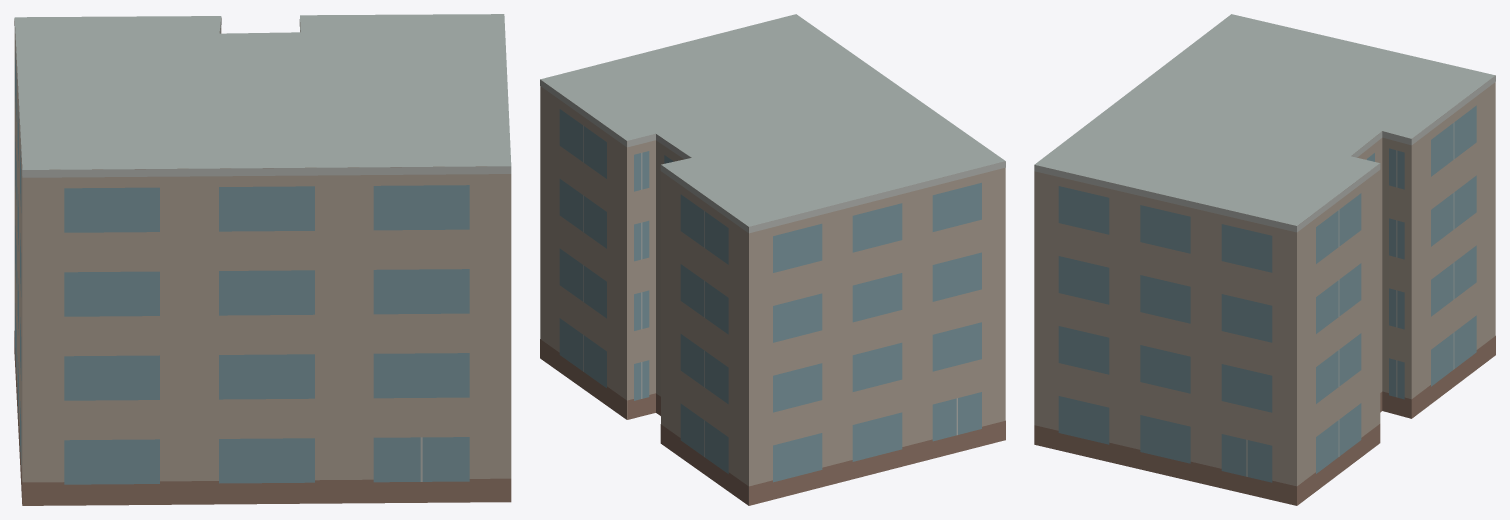
File: survey-upis-32870655.glb
3 renders of one model, left to right at view 1: azimuth 30°, elevation 25°; view 2: azimuth 150°, elevation 25°; view 3: azimuth 270°, elevation 25°, orthographic. The views are drawn at different scales.
Parts seen in each view (by area): view 1: survey-upis-32870655.tmp; view 2: survey-upis-32870655.tmp; view 3: survey-upis-32870655.tmp.
Boxes of the visible parts, x1=… form: survey-upis-32870655.tmp: x1=14, y1=14, x2=511, y2=505; survey-upis-32870655.tmp: x1=540, y1=14, x2=1005, y2=505; survey-upis-32870655.tmp: x1=1034, y1=14, x2=1495, y2=505.
Size of the model in its own units: 17.06 by 10.5 by 15.7.
